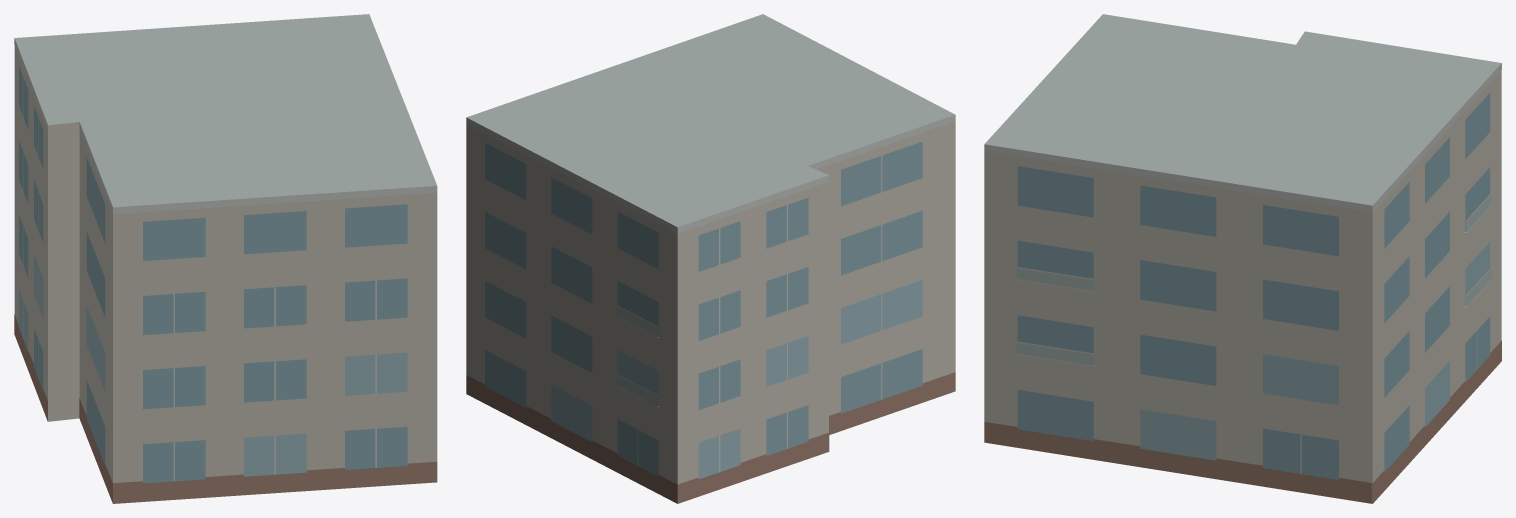
File: survey-upis-33047503.glb
The picture shows the model from 3 angles, left to right: view 1: azimuth 30°, elevation 25°; view 2: azimuth 150°, elevation 25°; view 3: azimuth 270°, elevation 25°; orthographic projection. The views are drawn at different scales.
Visible parts, largest first — view 1: survey-upis-33047503.tmp; view 2: survey-upis-33047503.tmp; view 3: survey-upis-33047503.tmp.
Part boxes in pixels (box(x1,y1,x2,y2)): survey-upis-33047503.tmp: box(14, 14, 437, 503); survey-upis-33047503.tmp: box(466, 14, 955, 503); survey-upis-33047503.tmp: box(984, 14, 1501, 503).
Size of the model in its own units: 14.55 by 10.55 by 16.6.
